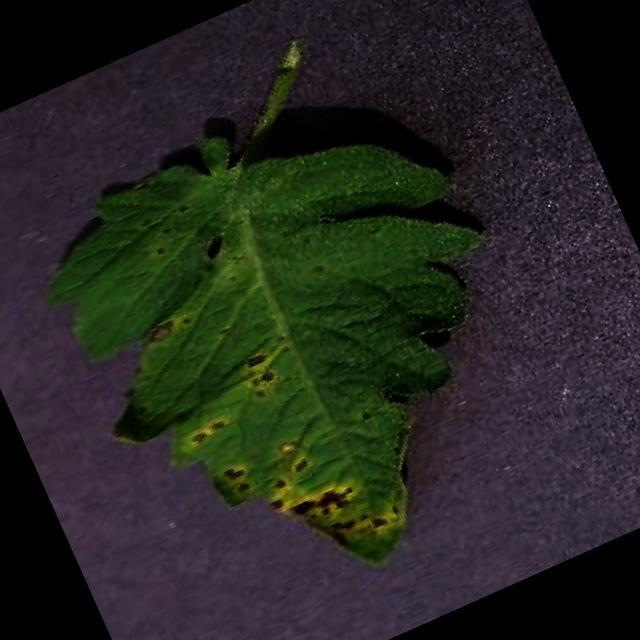Tomato Septoria spot leaf: (21, 47, 597, 640)
